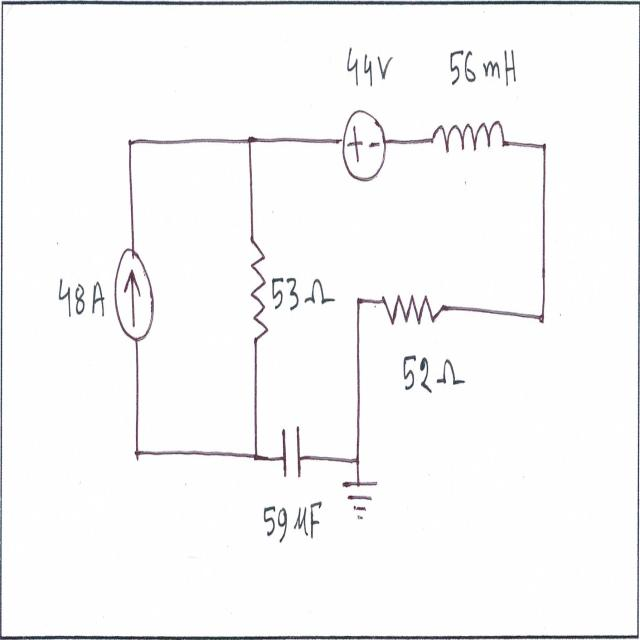capacitor: (278, 412, 310, 490)
current_source: (109, 241, 163, 350)
ground: (339, 474, 384, 528)
inductor: (426, 114, 508, 170)
resistor: (378, 282, 450, 332), (243, 230, 271, 350)
voltage_source: (340, 99, 390, 182)
